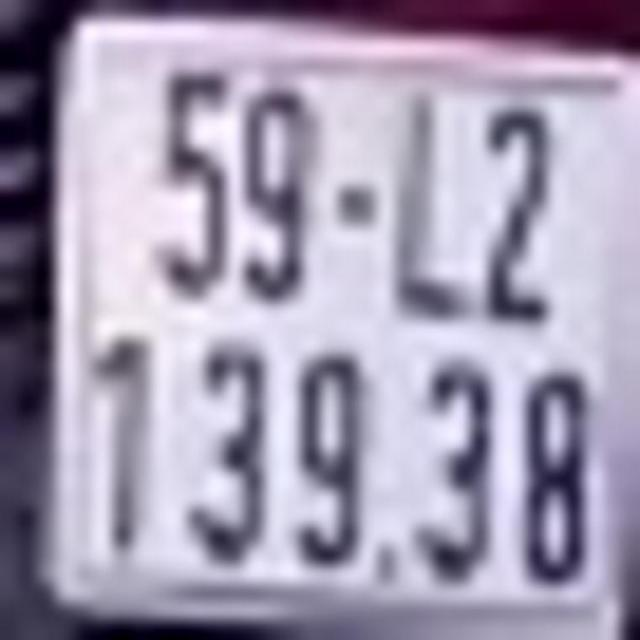1: (89, 324, 154, 554)
2: (480, 97, 555, 321)
3: (184, 330, 268, 569), (421, 361, 499, 577)
5: (154, 71, 232, 308)
8: (520, 362, 590, 592)
9: (284, 342, 368, 574), (237, 84, 310, 310)
L: (395, 86, 472, 324)
